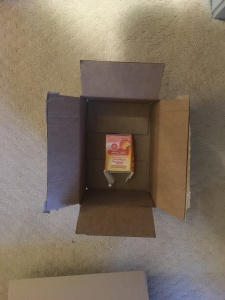innerbox: (80, 95, 156, 207)
outerbox: (47, 60, 186, 236)
product: (106, 134, 133, 181)
